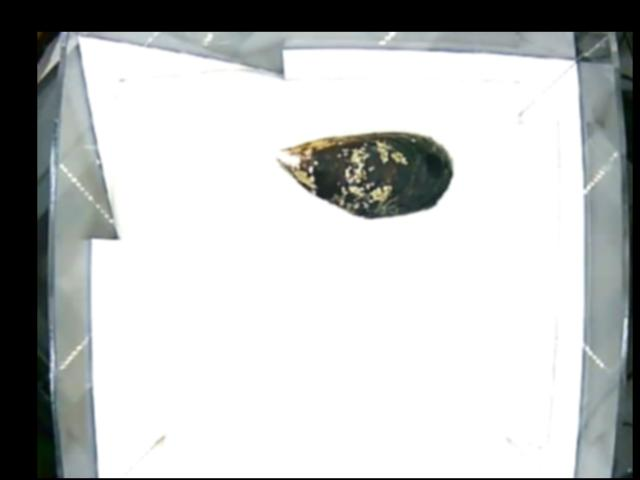Shell: (274, 131, 454, 216)
